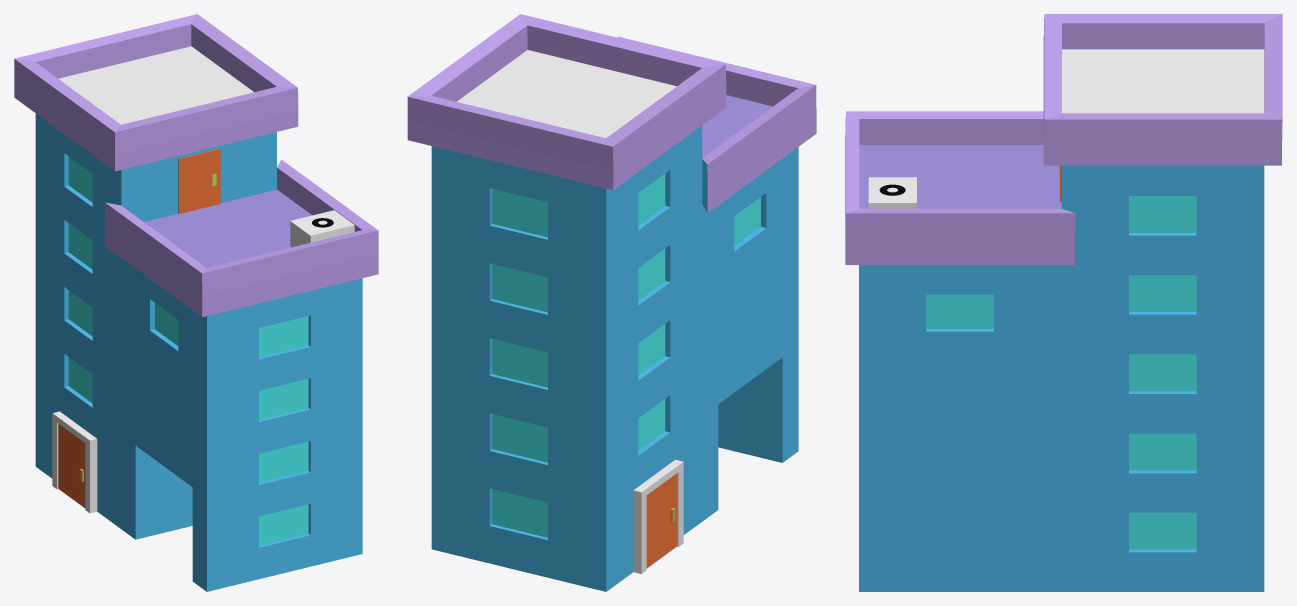
The model's file is building_blue.fbx.
3 views of the same model, side by side, from view 1: azimuth 30°, elevation 25°; view 2: azimuth 150°, elevation 25°; view 3: azimuth 270°, elevation 25° (orthographic). The views are drawn at different scales.
Visible parts, largest first — view 1: bulding, roof_color, white, glass, building_Top, door, bulding_thing; view 2: bulding, roof_color, glass, white, door, building_Top; view 3: bulding, roof_color, glass, white, building_Top, bulding_thing.
Boxes of the visible parts, bbox=[...] form: bulding: bbox=[35, 113, 362, 591]; roof_color: bbox=[14, 14, 378, 317]; white: bbox=[52, 46, 327, 513]; glass: bbox=[68, 156, 308, 545]; building_Top: bbox=[144, 189, 311, 267]; door: bbox=[58, 148, 220, 507]; bulding_thing: bbox=[290, 210, 354, 247]; bulding: bbox=[431, 125, 798, 591]; roof_color: bbox=[407, 14, 816, 212]; glass: bbox=[492, 173, 760, 537]; white: bbox=[457, 50, 683, 573]; door: bbox=[646, 473, 676, 568]; building_Top: bbox=[702, 95, 772, 157]; bulding: bbox=[859, 165, 1264, 591]; roof_color: bbox=[845, 14, 1282, 264]; glass: bbox=[926, 196, 1196, 549]; white: bbox=[887, 49, 1264, 192]; building_Top: bbox=[859, 145, 1061, 208]; bulding_thing: bbox=[868, 177, 916, 208].
Size of the model in its own units: 1928 by 4080 by 3366.
